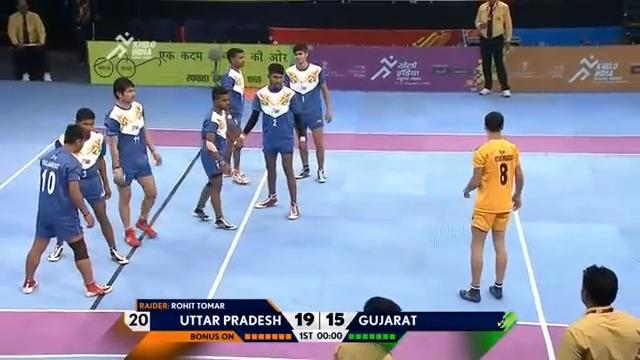Player: (21, 123, 112, 297), (46, 107, 128, 264), (459, 110, 524, 302), (233, 62, 305, 219), (103, 76, 162, 246), (556, 264, 639, 359), (282, 42, 333, 182), (192, 86, 238, 230), (218, 47, 249, 184)
referee: (474, 0, 513, 97), (6, 0, 52, 81), (67, 0, 93, 67)
